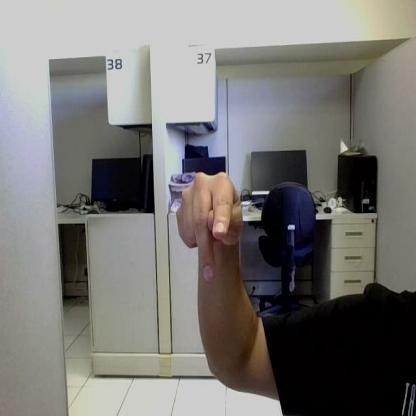P: (177, 172, 240, 280)
